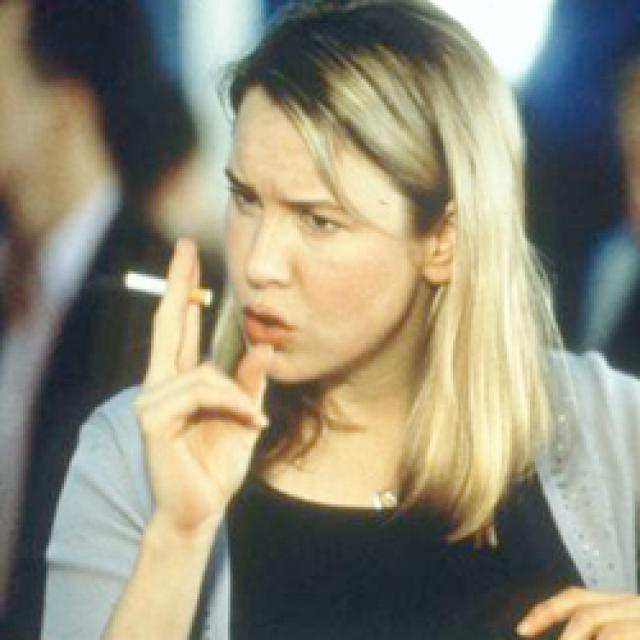Smooking: (111, 260, 222, 316)
